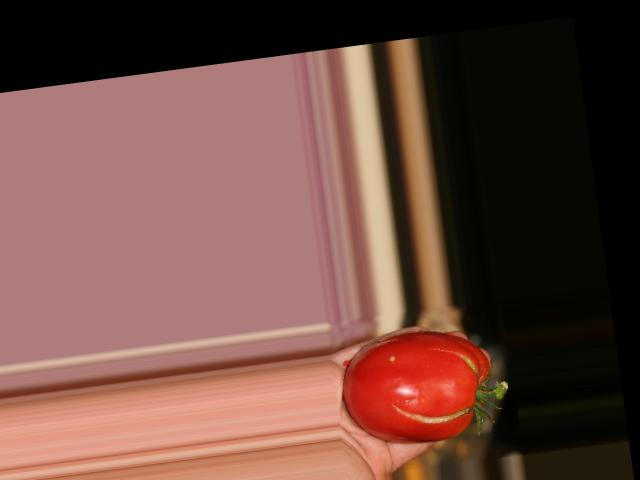tomato: (336, 322, 498, 450)
